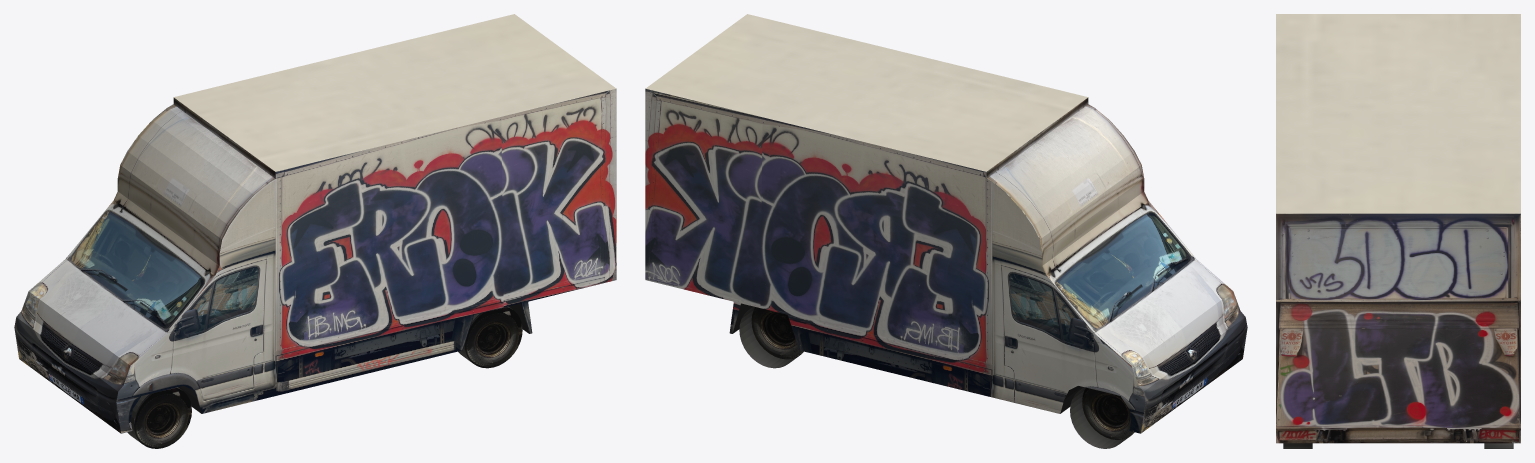
Rendered from TruckWhite.gltf.
3 views of the same model, side by side, from view 1: azimuth 30°, elevation 25°; view 2: azimuth 150°, elevation 25°; view 3: azimuth 270°, elevation 25° (orthographic). The views are drawn at different scales.
Visible parts, largest first — view 1: TruckWhite; view 2: TruckWhite; view 3: TruckWhite.
Boxes of the visible parts, x1,y1,x2,y2 form: TruckWhite: (14, 14, 616, 448); TruckWhite: (645, 14, 1247, 448); TruckWhite: (1276, 14, 1520, 448).
Size of the model in its own units: 9.87 by 4.75 by 3.49.
Materials: 7 (6 with a texture image).
